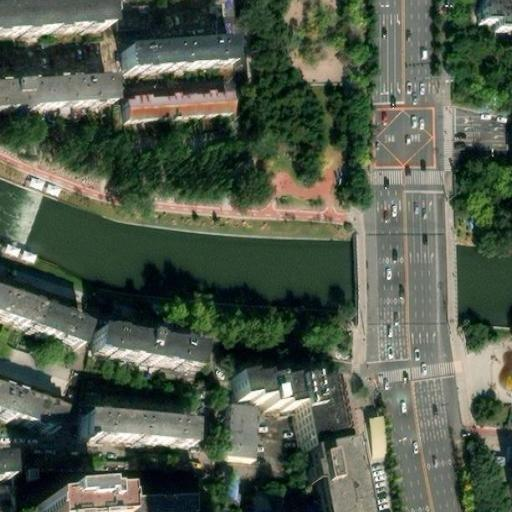building: (92, 329, 203, 373), (0, 300, 88, 354), (78, 414, 191, 452), (296, 403, 348, 476), (124, 93, 233, 124), (119, 32, 223, 63), (230, 369, 308, 407), (0, 390, 59, 439), (309, 468, 357, 512), (223, 402, 257, 459), (112, 2, 151, 32), (365, 412, 386, 459), (479, 0, 512, 28), (0, 448, 20, 475)
